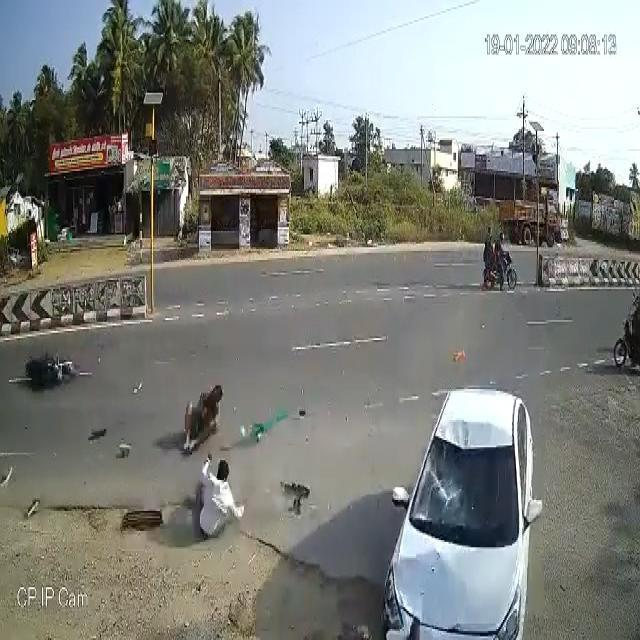accident: (379, 383, 541, 640), (22, 329, 88, 398)
